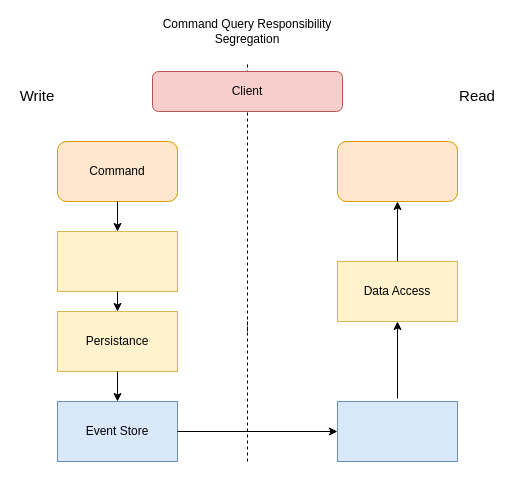
This 514x480 diagram has some shape labels left out. Each missing label, with the centre of its shape:
"Domain" goes at pixel 117 261.
"Query" goes at pixel 397 171.
"Read Database" goes at pixel 397 431.
